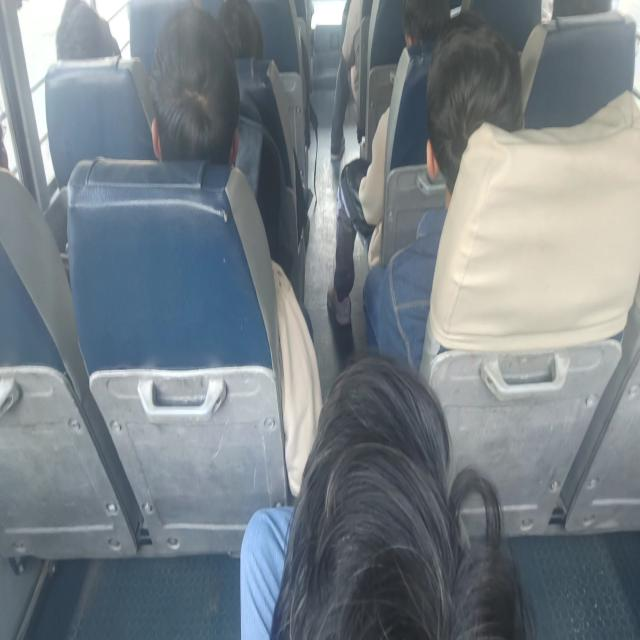person: (287, 365, 513, 640), (144, 14, 239, 170), (428, 34, 516, 200), (392, 0, 468, 61), (53, 0, 123, 66), (209, 0, 267, 68)
